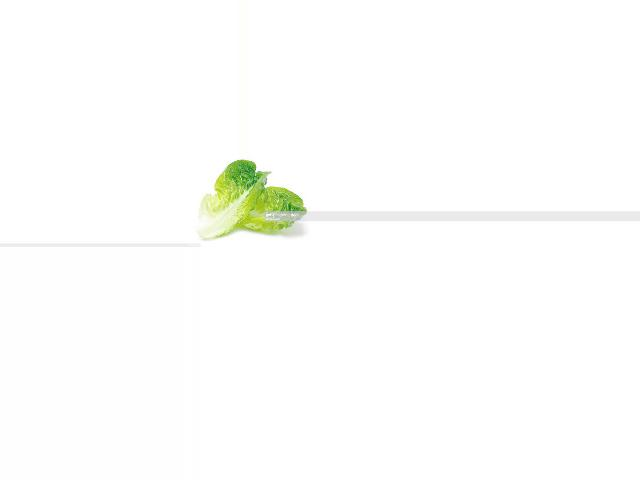lettuce: (194, 159, 309, 235)
